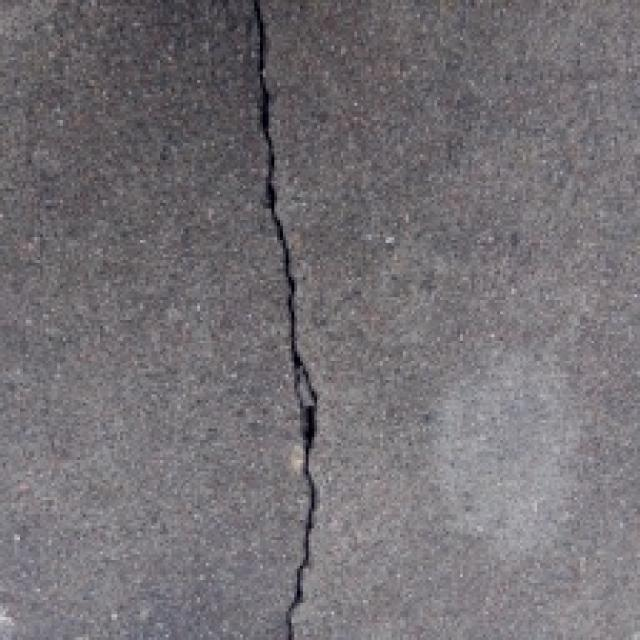crack: (210, 0, 336, 640)
